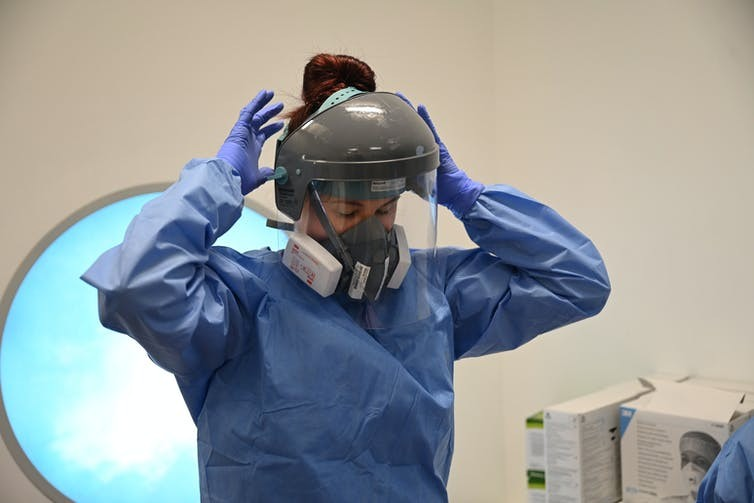Coverall: (77, 155, 613, 503)
Face_Shield: (275, 88, 441, 308)
Gloves: (394, 92, 487, 222), (213, 89, 290, 196)
with_mask: (308, 200, 409, 304)
